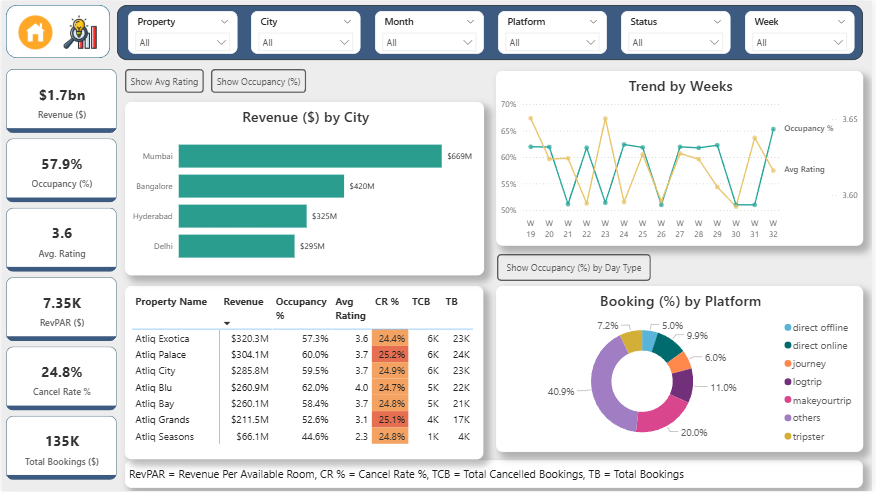

Layout of this report page (visuals, bound fields, positions):
{"tool":"powerbi","page":{"name":"Overall Insights","canvas":[1280,720],"ordinal":1},"visuals":[{"type":"shape","box":[169.1,5.9,1097.1,80.9],"z":0,"group":"g3"},{"type":"barChart","title":"Revenue ($) by City","fields":{"Category":["dim_hotels.city"],"Y":["Key_Measures.Revenue"]},"box":[180.9,148,527.9,255],"z":0,"group":"g2"},{"type":"donutChart","title":"Booking (%) by Platform","fields":{"Category":["fact_bookings.booking_platform"],"Y":["Key_Measures.Booking % by Platform"]},"box":[726.5,419.2,539.7,244.1],"z":0,"group":"g1"},{"type":"slicer","title":"Week","fields":{"Values":["dim_date.week no"]},"box":[1092,14.9,161.4,63],"z":1000,"group":"g3"},{"type":"actionButton","title":"Occu Button for Revenue","box":[307.4,100,140,35.3],"z":1000,"group":"g2"},{"type":"actionButton","title":"Occu % Button for Platform","box":[727.9,372.1,226.4,39.7],"z":1000,"group":"g1"},{"type":"textbox","title":"RevPAR = Revenue Per Available Room, CR % = Cancel Rate %, TCB = Total Cancelled Bookings, TB = Total Bookings","box":[180.9,675,1085.3,41],"z":1500},{"type":"slicer","title":"Month","fields":{"Values":["dim_date.mmm yy"]},"box":[548.8,14.9,160,63],"z":2000,"group":"g3"},{"type":"actionButton","title":"Avg Rating Button for Revenue","box":[180.9,100,116,35.3],"z":2000,"group":"g2"},{"type":"slicer","title":"Platform","fields":{"Values":["fact_bookings.booking_platform"]},"box":[729.4,14.9,160,63],"z":3000,"group":"g3"},{"type":"slicer","title":"Status","fields":{"Values":["fact_bookings.booking_status"]},"box":[910,14.9,161.4,63],"z":4000,"group":"g3"},{"type":"slicer","title":"City","fields":{"Values":["dim_hotels.city"]},"box":[366.7,14.9,161.4,63],"z":5000,"group":"g3"},{"type":"slicer","title":"Property","fields":{"Values":["dim_hotels.property_name"]},"box":[184.7,14.9,161.4,63],"z":6000,"group":"g3"},{"type":"group","id":"g1","title":"Platform Donut Chart Group","box":[726.5,372.1,539.7,291.2],"z":8000},{"type":"pivotTable","fields":{"Rows":["dim_hotels.property_name"],"Values":["Key_Measures.Revenue","Key_Measures.Occupancy %","Key_Measures.Average Rating","Key_Measures.Cancel Rate %","Key_Measures.Total cancelled bookings","Key_Measures.Total Bookings"]},"box":[181.4,419.5,527.2,255.1],"z":8132},{"type":"lineChart","title":"Trend by Weeks","fields":{"Category":["dim_date.week no"],"Y":["Key_Measures.Occupancy %"],"Y2":["Key_Measures.Average Rating"]},"box":[726.5,102.9,539.7,257.4],"z":8265},{"type":"shape","box":[5.9,5.9,152.9,77.9],"z":10000,"group":"g4"},{"type":"group","id":"g2","title":"Revenue by City Group","box":[180.9,100,527.9,302.9],"z":10125},{"type":"image","box":[16.2,16.2,66.2,60.3],"z":11000,"group":"g4"},{"type":"image","box":[80.9,14.7,67.6,61.8],"z":12000,"group":"g4"},{"type":"cardVisual","fields":{"Data":["Key_Measures.Revenue","Key_Measures.Occupancy %","Key_Measures.Average Rating","Key_Measures.Revpar","Key_Measures.Cancel Rate %","Key_Measures.Total Bookings"]},"box":[5.9,100,163.2,604.4],"z":12251},{"type":"group","id":"g3","title":"Filters","box":[169.1,5.9,1097.1,80.9],"z":12501},{"type":"group","id":"g4","title":"Navigation Group","box":[5.9,5.9,152.9,77.9],"z":13001}]}

Visuals, with their boxes in screenshot pixels (x1, y1, x2, y2), scaled from the page's 1280x720 canvas onto the 876x492 screenshot:
shape: [116, 4, 867, 59]
"Revenue ($) by City" barChart: [124, 101, 485, 275]
"Booking (%) by Platform" donutChart: [497, 286, 867, 453]
"Week" slicer: [747, 10, 858, 53]
"Occu Button for Revenue" actionButton: [210, 68, 306, 92]
"Occu % Button for Platform" actionButton: [498, 254, 653, 281]
"RevPAR = Revenue Per Available Room, CR % = Cancel Rate %, TCB = Total Cancelled Bookings, TB = Total Bookings" textbox: [124, 461, 867, 489]
"Month" slicer: [376, 10, 485, 53]
"Avg Rating Button for Revenue" actionButton: [124, 68, 203, 92]
"Platform" slicer: [499, 10, 609, 53]
"Status" slicer: [623, 10, 733, 53]
"City" slicer: [251, 10, 361, 53]
"Property" slicer: [126, 10, 237, 53]
"Platform Donut Chart Group" group: [497, 254, 867, 453]
pivotTable - dim_hotels.property_name x Key_Measures.Revenue: [124, 287, 485, 461]
"Trend by Weeks" lineChart: [497, 70, 867, 246]
shape: [4, 4, 109, 57]
"Revenue by City Group" group: [124, 68, 485, 275]
image: [11, 11, 56, 52]
image: [55, 10, 102, 52]
cardVisual - Key_Measures.Revenue x Key_Measures.Occupancy %: [4, 68, 116, 481]
"Filters" group: [116, 4, 867, 59]
"Navigation Group" group: [4, 4, 109, 57]
